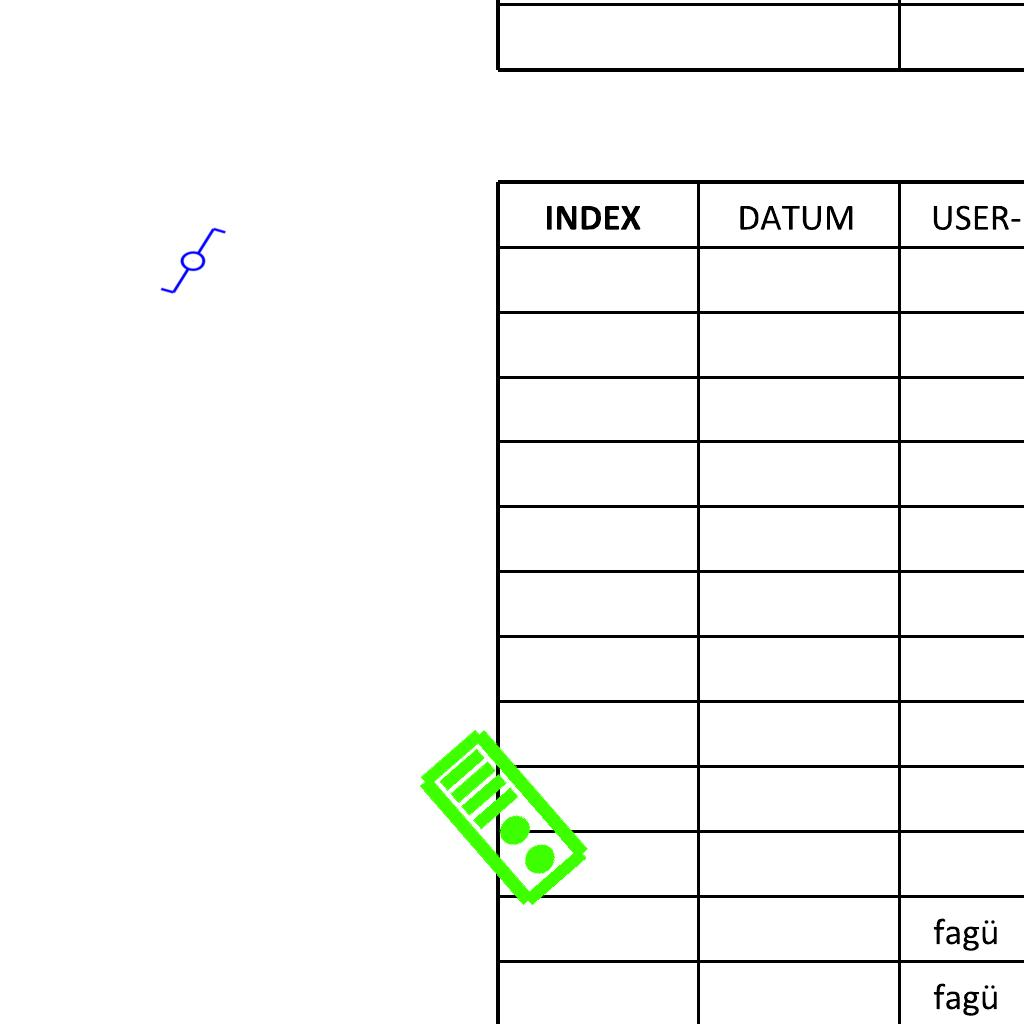Gegensprechanlage_mit_Video: (411, 719, 600, 915)
Wechselschalter: (150, 224, 228, 296)
